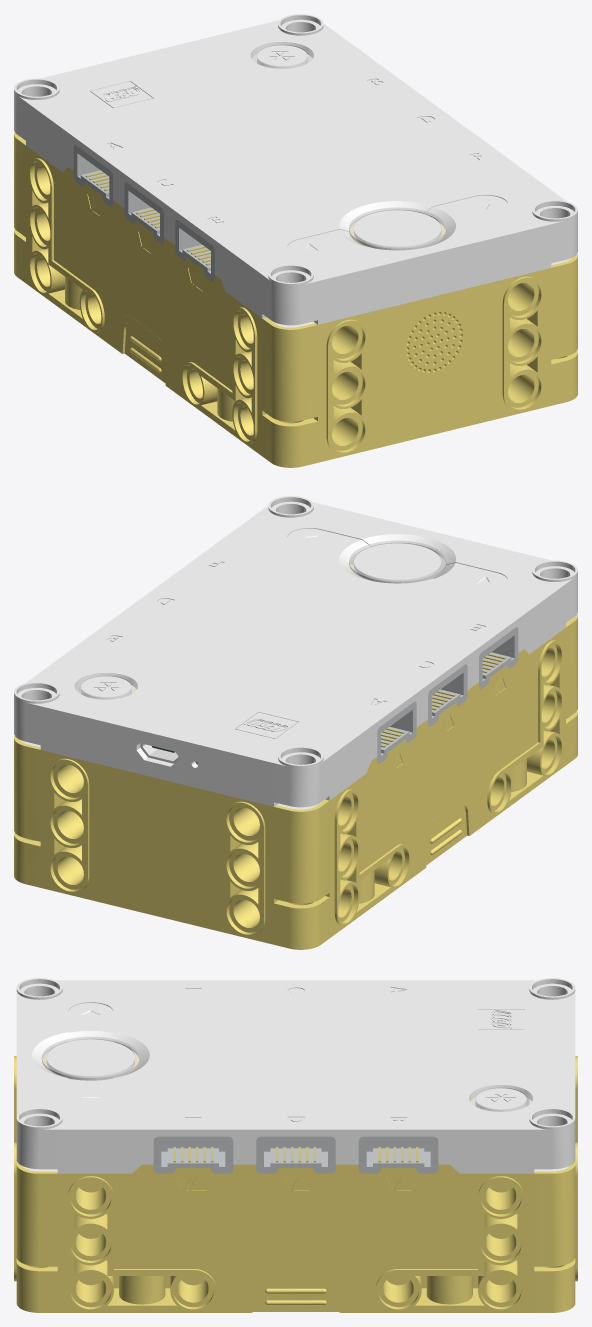
3 views of the same model, one above another, from view 1: azimuth 30°, elevation 25°; view 2: azimuth 150°, elevation 25°; view 3: azimuth 270°, elevation 25° (orthographic).
Parts seen in each view (by area): view 1: sym_1, Base (×2), sym_86, sym_12, sym_21; view 2: sym_1, Base (×2), sym_86, sym_12, sym_21; view 3: sym_1, Base (×2), sym_86, sym_12, sym_21.
Part boxes in pixels (box(x1,y1,x2,y2)): sym_1: box(14, 14, 577, 327); Base (×2): box(14, 132, 577, 467); sym_86: box(73, 145, 214, 281); sym_12: box(250, 42, 446, 250); sym_21: box(85, 171, 210, 265); sym_1: box(14, 496, 577, 809); Base (×2): box(14, 559, 577, 949); sym_86: box(78, 627, 518, 763); sym_12: box(74, 540, 446, 699); sym_21: box(153, 653, 506, 752); sym_1: box(16, 978, 575, 1173); Base (×2): box(14, 1051, 577, 1312); sym_86: box(153, 1136, 438, 1173); sym_12: box(41, 1036, 532, 1111); sym_21: box(173, 1147, 418, 1162).
Bounding box in the file's own units: 140 × 79.75 × 220.
